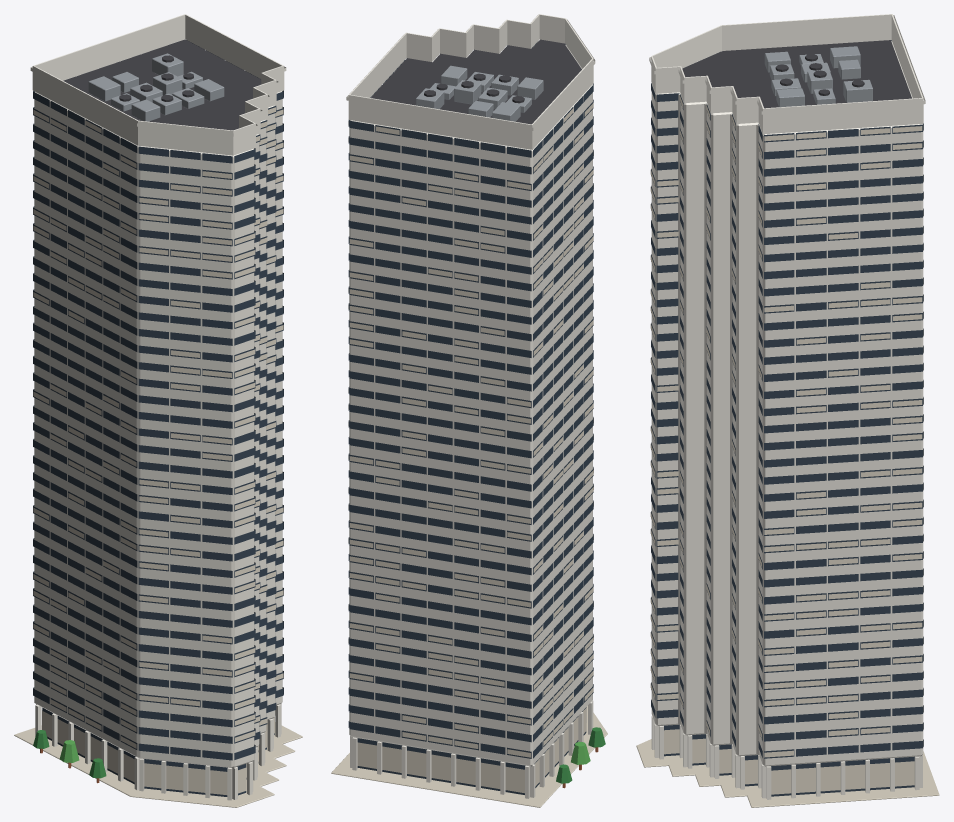
Rendered from 1-front-street.glb.
3 renders of one model, left to right at view 1: azimuth 30°, elevation 25°; view 2: azimuth 150°, elevation 25°; view 3: azimuth 270°, elevation 25°, orthographic. The views are drawn at different scales.
Visible parts, largest first — view 1: 1-front-street_body, 1-front-street_night_glow; view 2: 1-front-street_body, 1-front-street_night_glow; view 3: 1-front-street_body, 1-front-street_night_glow.
Part boxes in pixels (left/top/right/bottom): 1-front-street_body: left=14, top=14, right=302, bottom=807; 1-front-street_night_glow: left=30, top=66, right=286, bottom=794; 1-front-street_body: left=331, top=14, right=607, bottom=807; 1-front-street_night_glow: left=346, top=15, right=595, bottom=793; 1-front-street_body: left=636, top=14, right=939, bottom=807; 1-front-street_night_glow: left=649, top=15, right=925, bottom=794.
Size of the model in its own units: 56.22 by 164 by 65.06.
